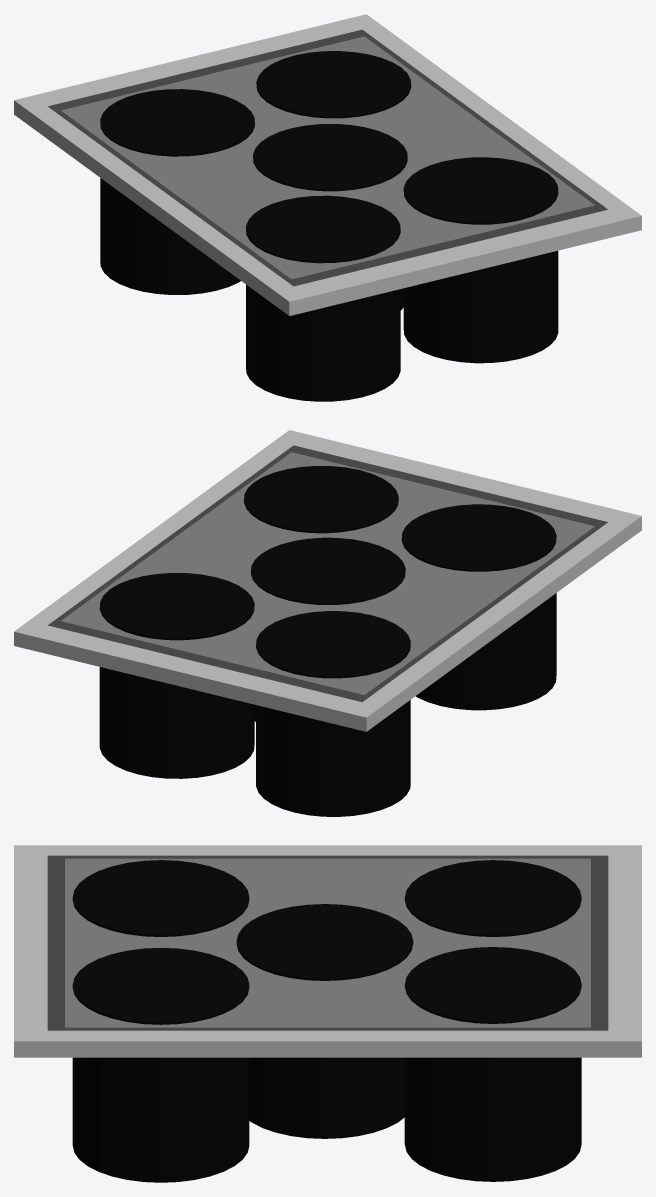
Rendered from Cooker Unit (Oven Hob).fbx.
The picture shows the model from 3 angles, top to bottom: view 1: azimuth 30°, elevation 25°; view 2: azimuth 150°, elevation 25°; view 3: azimuth 270°, elevation 25°; orthographic projection. The views are drawn at different scales.
Parts seen in each view (by area): view 1: Door 1.014, Door 1.001, Cylinder.005, Cylinder.006, Cylinder.002, Cylinder, Cylinder.004, Door 1.004; view 2: Door 1.014, Door 1.001, Cylinder.002, Cylinder.004, Cylinder.005, Cylinder, Cylinder.006, Door 1.004; view 3: Door 1.001, Door 1.014, Cylinder.006, Cylinder.004, Cylinder, Cylinder.002, Cylinder.005, Door 1.004.
Boxes of the visible parts, left/top/right/bottom form: Door 1.014: left=14, top=14, right=641, bottom=315; Door 1.001: left=61, top=36, right=594, bottom=279; Cylinder.005: left=246, top=195, right=400, bottom=401; Cylinder.006: left=403, top=157, right=558, bottom=363; Cylinder.002: left=100, top=89, right=254, bottom=294; Cylinder: left=253, top=124, right=407, bottom=310; Cylinder.004: left=256, top=51, right=411, bottom=118; Door 1.004: left=48, top=29, right=607, bottom=286; Door 1.014: left=14, top=430, right=641, bottom=731; Door 1.001: left=61, top=452, right=594, bottom=695; Cylinder.002: left=256, top=611, right=410, bottom=816; Cylinder.004: left=99, top=573, right=254, bottom=778; Cylinder.005: left=401, top=504, right=556, bottom=710; Cylinder: left=251, top=537, right=405, bottom=721; Cylinder.006: left=244, top=466, right=398, bottom=533; Door 1.004: left=48, top=445, right=607, bottom=702; Door 1.001: left=65, top=858, right=590, bottom=1027; Door 1.014: left=14, top=845, right=641, bottom=1057; Cylinder.006: left=72, top=948, right=249, bottom=1182; Cylinder.004: left=404, top=947, right=581, bottom=1181; Cylinder: left=236, top=904, right=413, bottom=1138; Cylinder.002: left=404, top=860, right=581, bottom=936; Cylinder.005: left=72, top=860, right=249, bottom=936; Door 1.004: left=47, top=855, right=608, bottom=1030.
Size of the model in its own units: 0.577 by 0.2199 by 0.7809.
Materials: 8 (8 with a texture image).
